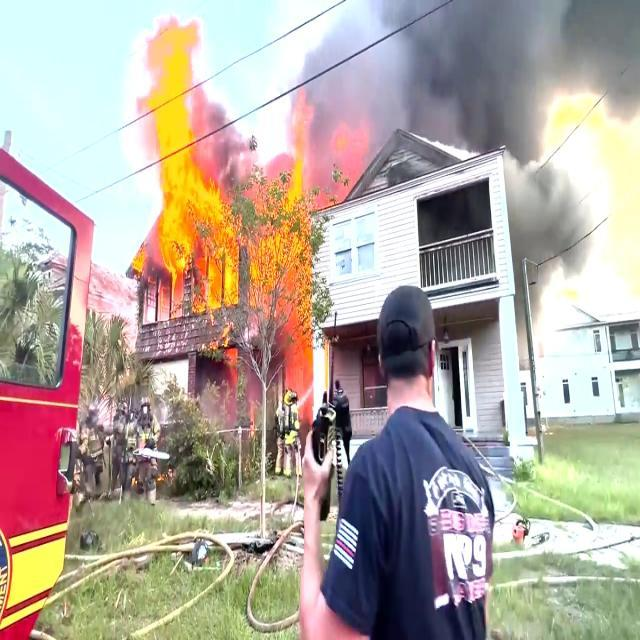Fire: (151, 39, 217, 324), (233, 176, 309, 420)
Smoke: (385, 16, 640, 130)
